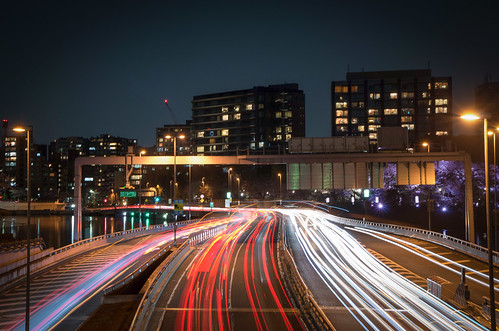building: (321, 75, 452, 205), (184, 76, 315, 206), (49, 135, 142, 212), (151, 123, 191, 208), (1, 133, 36, 210)
road: (129, 209, 485, 331)
sea: (1, 213, 180, 254)
sky: (20, 1, 473, 118)
